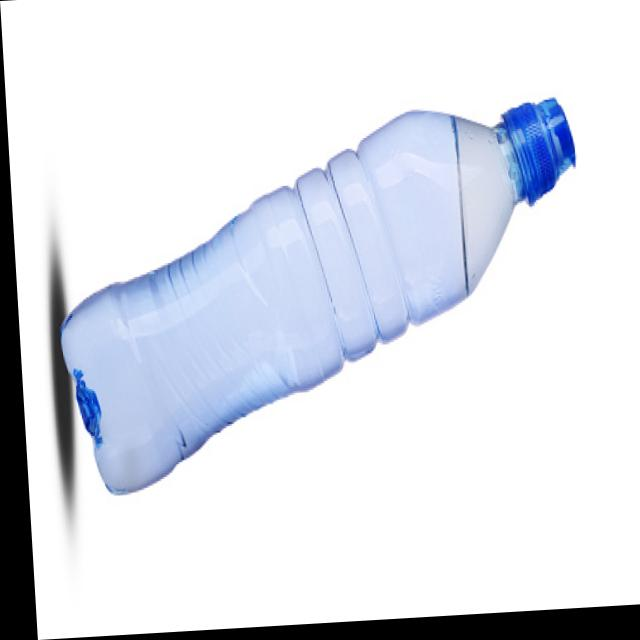bottle: (35, 95, 597, 502)
